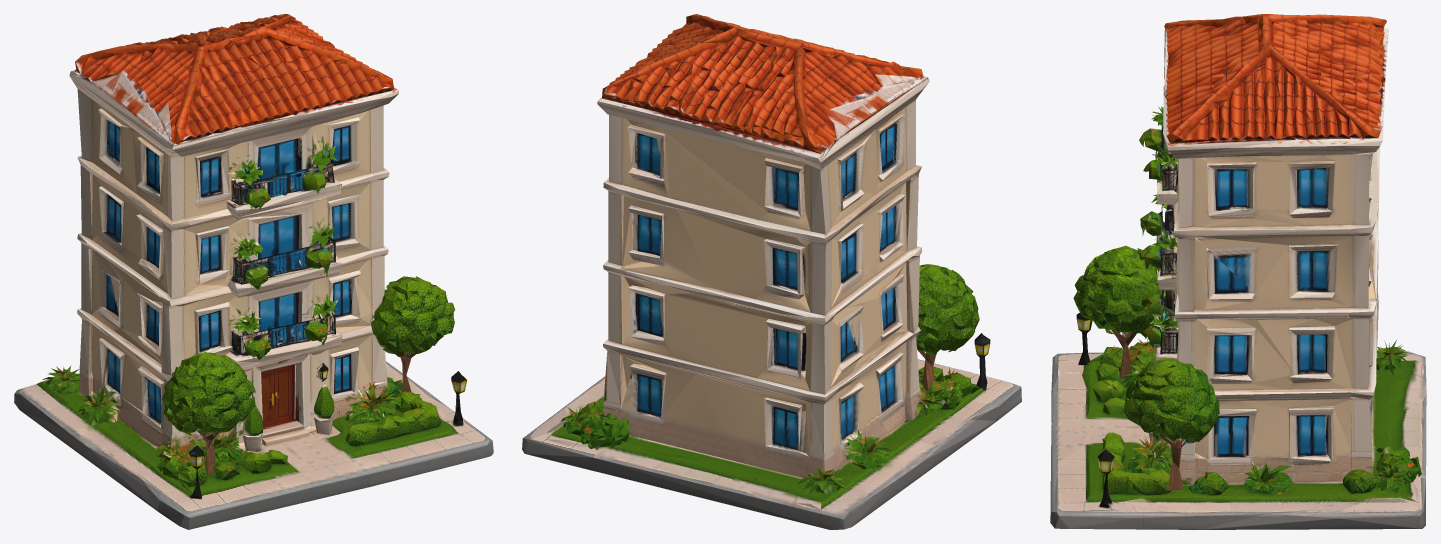
File: level-4-source.glb
3 views of the same model, side by side, from view 1: azimuth 30°, elevation 25°; view 2: azimuth 150°, elevation 25°; view 3: azimuth 270°, elevation 25° (orthographic). The views are drawn at different scales.
Visible parts, largest first — view 1: Mesh_0; view 2: Mesh_0; view 3: Mesh_0.
Part boxes in pixels (x1,y1,x2,y2): Mesh_0: (14, 14, 493, 529); Mesh_0: (522, 14, 1021, 529); Mesh_0: (1050, 14, 1426, 529).
Bounding box in the file's own units: 1.65 × 1.9 × 1.56.
1 material, 1 textured.
